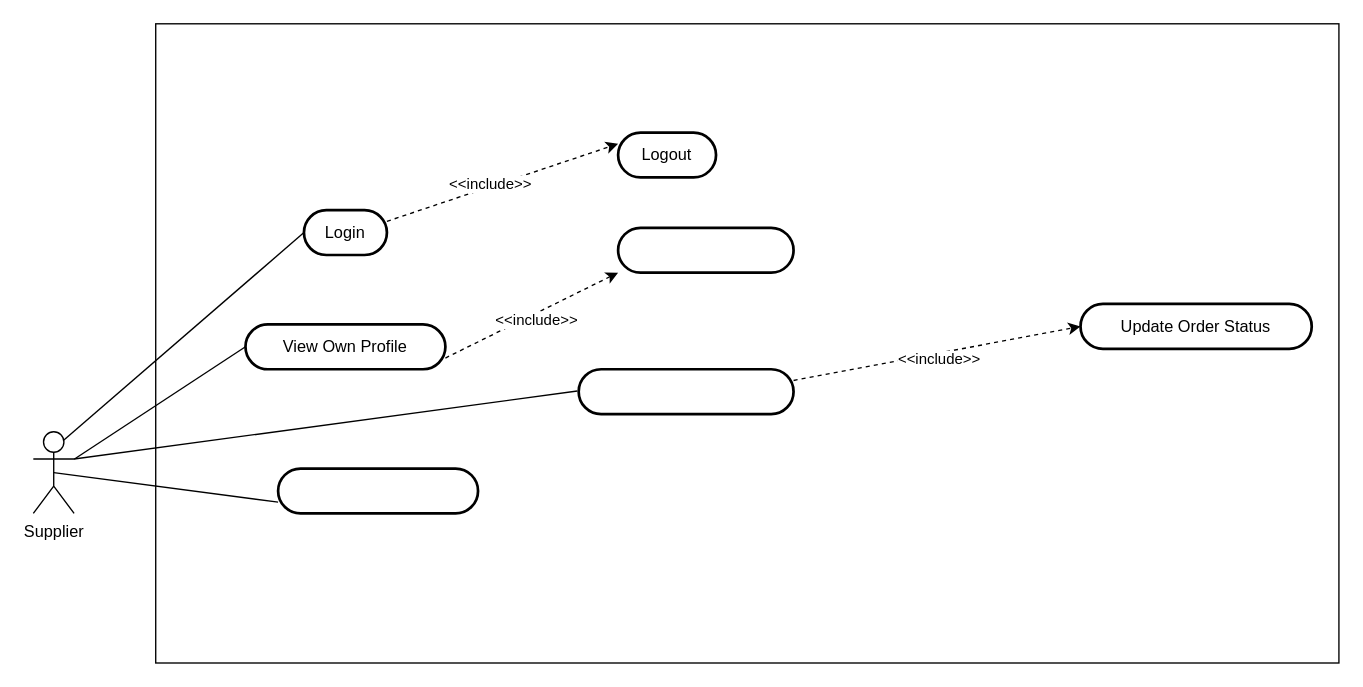
The diagram is 1363 pixels wide and 687 high, and some of its shapes have lost their labels. The shapes that lost their labels are listed below. From the top down, each one's box as (x1, y1, x2, y2) in pixels, then its label:
(616, 226, 794, 273): Refresh Orders
(577, 367, 794, 415): View Order Details
(276, 466, 479, 514): View Own Orders
